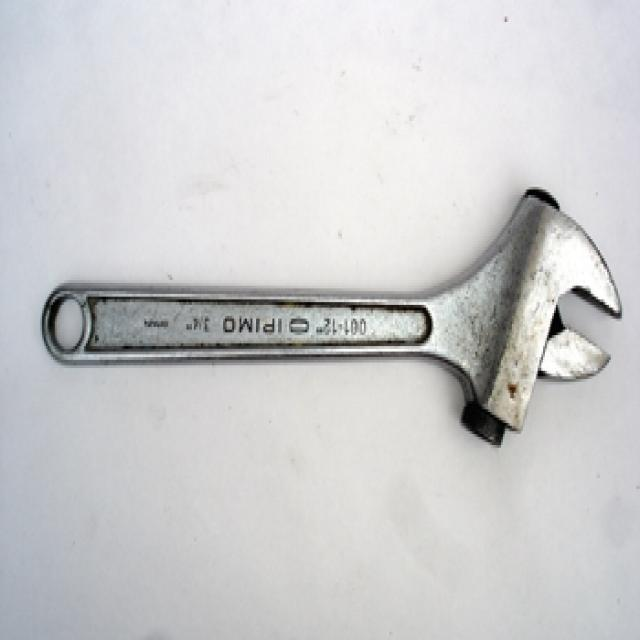wrench: (38, 178, 626, 452)
